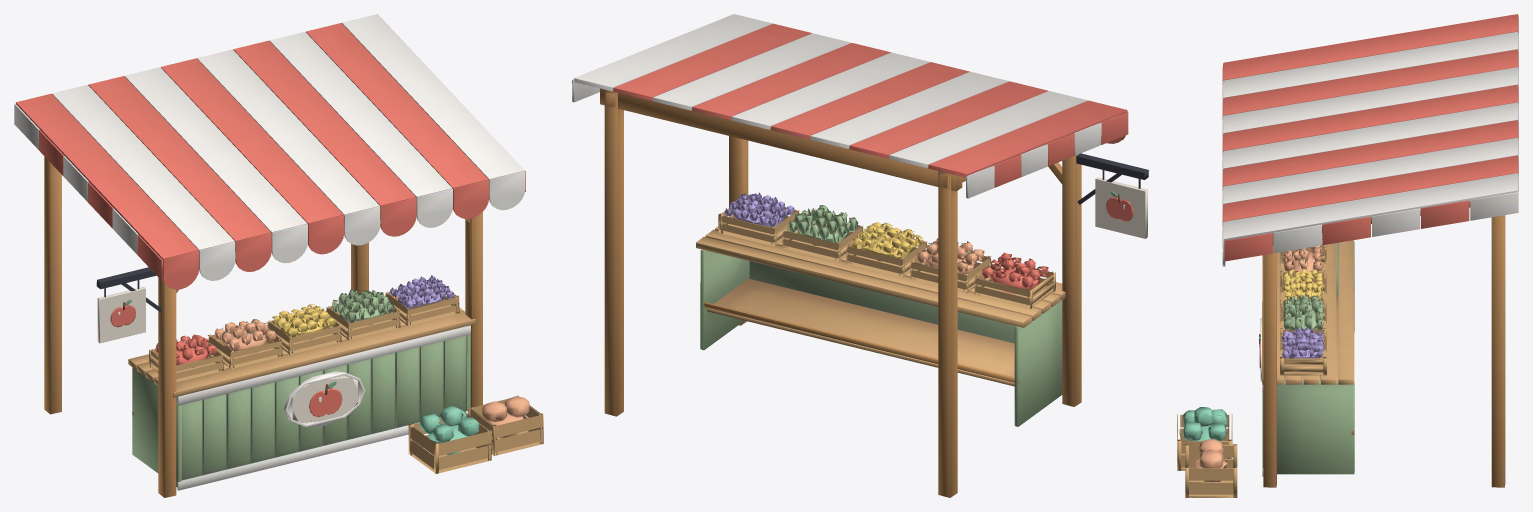
Rendered from warung_simplify.glb.
3 views of the same model, side by side, from view 1: azimuth 30°, elevation 25°; view 2: azimuth 150°, elevation 25°; view 3: azimuth 270°, elevation 25° (orthographic). The views are drawn at different scales.
Visible parts, largest first — view 1: market-stall_body, market-stall_crates, market-stall_produce, market-stall_signs; view 2: market-stall_body, market-stall_produce, market-stall_crates, market-stall_signs; view 3: market-stall_body, market-stall_produce, market-stall_crates.
Boxes of the visible parts, bbox=[...] form: market-stall_body: bbox=[14, 14, 525, 497]; market-stall_crates: bbox=[148, 290, 543, 473]; market-stall_produce: bbox=[155, 275, 529, 455]; market-stall_signs: bbox=[96, 267, 365, 427]; market-stall_body: bbox=[572, 14, 1128, 497]; market-stall_produce: bbox=[724, 192, 1048, 293]; market-stall_crates: bbox=[718, 207, 1055, 308]; market-stall_signs: bbox=[1076, 153, 1148, 238]; market-stall_body: bbox=[1222, 14, 1518, 487]; market-stall_produce: bbox=[1182, 235, 1324, 481]; market-stall_crates: bbox=[1177, 232, 1326, 497].
Size of the model in its own units: 3.64 by 2.65 by 2.66.
Materials: 15 (1 with a texture image).
